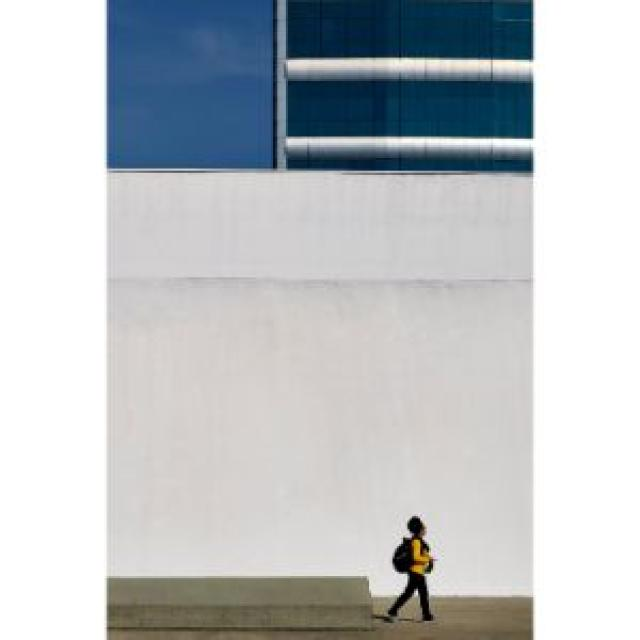nonfall: (366, 501, 448, 628)
